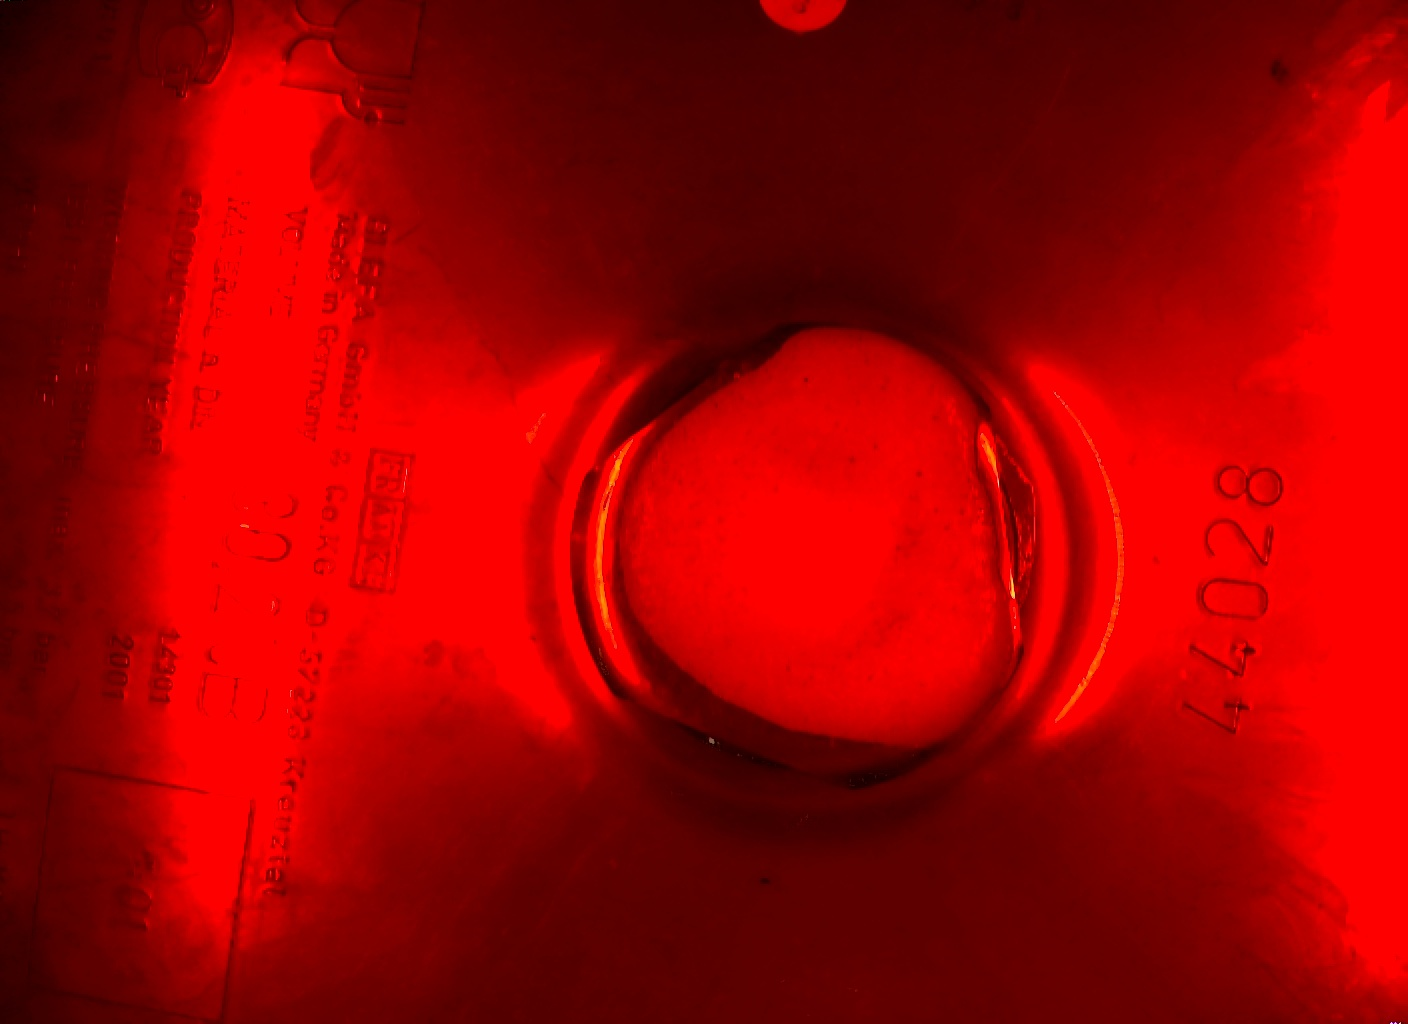shapka: (609, 323, 1035, 769)
